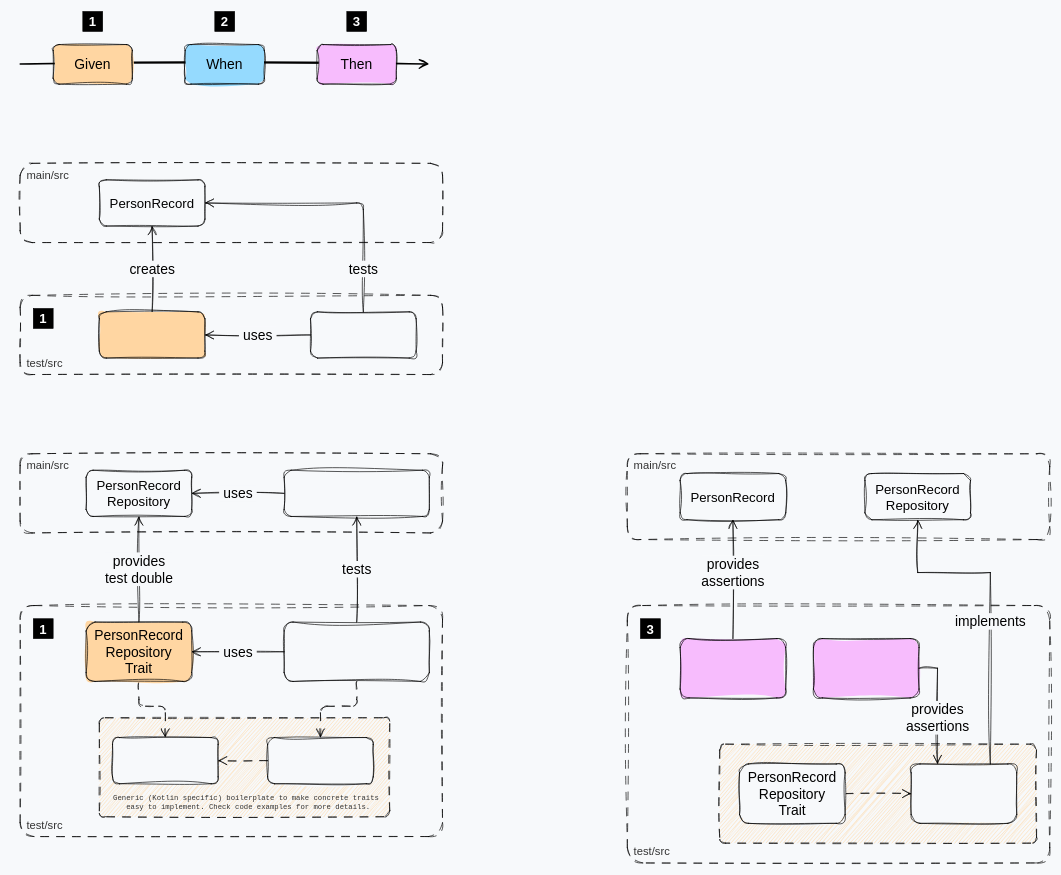
This 1061x875 diagram has some shape labels left out. The centre of each missing label's shape, as x and y in pixels:
"PersonRecord Assert" belongs at pixel 732 668.
"PersonRecord Fixtures" belongs at pixel 152 334.
"PersonRecord Repository Assert" belongs at pixel 866 668.
"PersonRecord Repository Mock" belongs at pixel 963 793.
"PersonRecord Test" belongs at pixel 363 334.
"RegisterPersonRecord UseCase" belongs at pixel 356 493.
"RegisterPersonRecord UseCase Test" belongs at pixel 356 651.
"Trait" belongs at pixel 165 760.
"TraitsAware" belongs at pixel 320 760.
